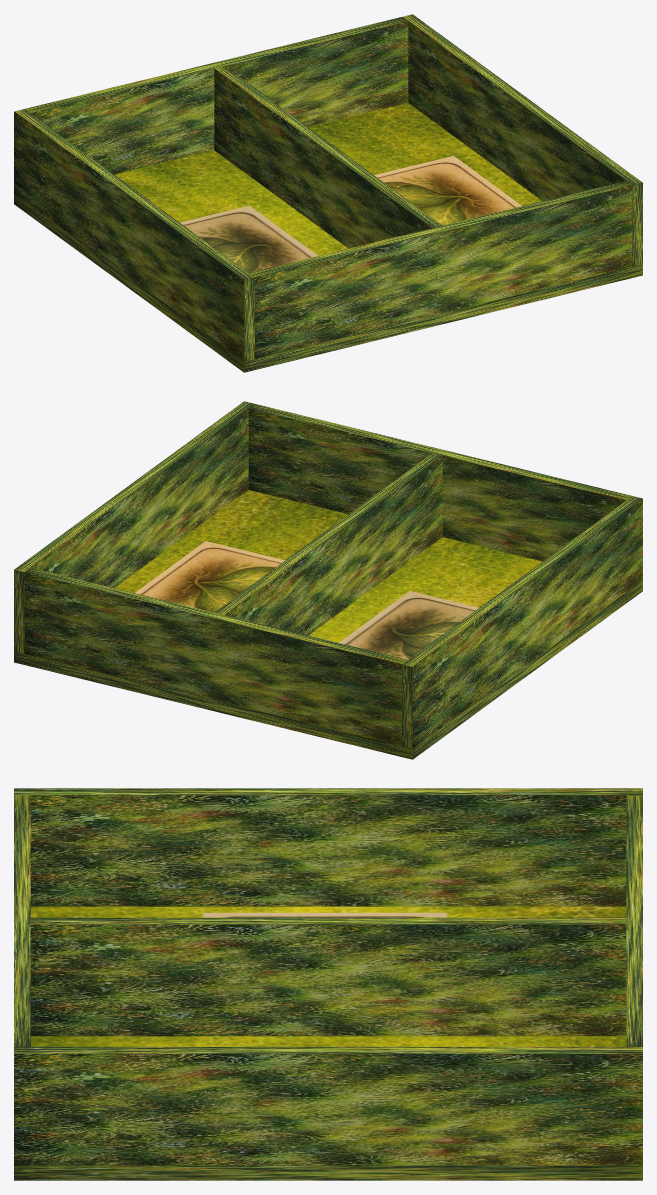
File: VP_Tray.obj
3 views of the same model, one above another, from view 1: azimuth 30°, elevation 25°; view 2: azimuth 150°, elevation 25°; view 3: azimuth 270°, elevation 25° (orthographic). The views are drawn at different scales.
Parts seen in each view (by area): view 1: Leaf_And_Let_Die_VP_Tray; view 2: Leaf_And_Let_Die_VP_Tray; view 3: Leaf_And_Let_Die_VP_Tray.
Boxes of the visible parts, box(x1,y1,x2,y2) form: Leaf_And_Let_Die_VP_Tray: box(14, 14, 642, 372); Leaf_And_Let_Die_VP_Tray: box(14, 401, 642, 759); Leaf_And_Let_Die_VP_Tray: box(14, 788, 642, 1180).
Size of the model in its own units: 6.57 by 1.46 by 6.57.
Materials: 1 (1 with a texture image).
